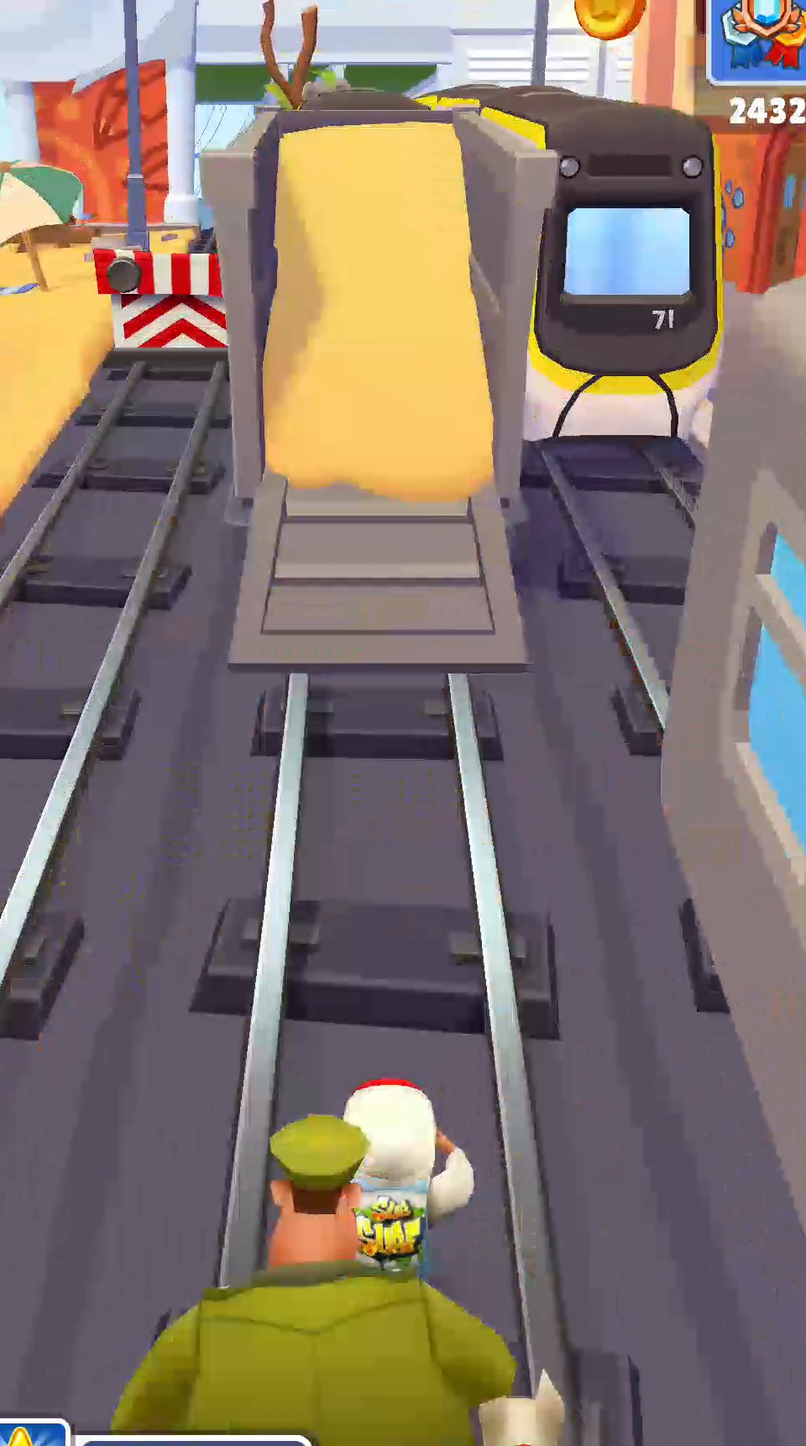climber: (230, 119, 524, 670)
police: (111, 1116, 515, 1445)
roll blocker: (94, 247, 225, 350)
train: (662, 278, 805, 1232), (418, 84, 721, 440)
